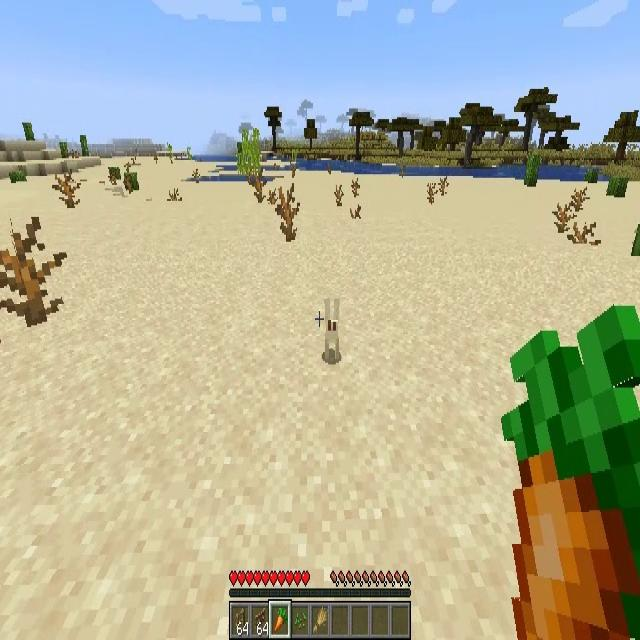rabbit: (324, 296, 341, 365)
